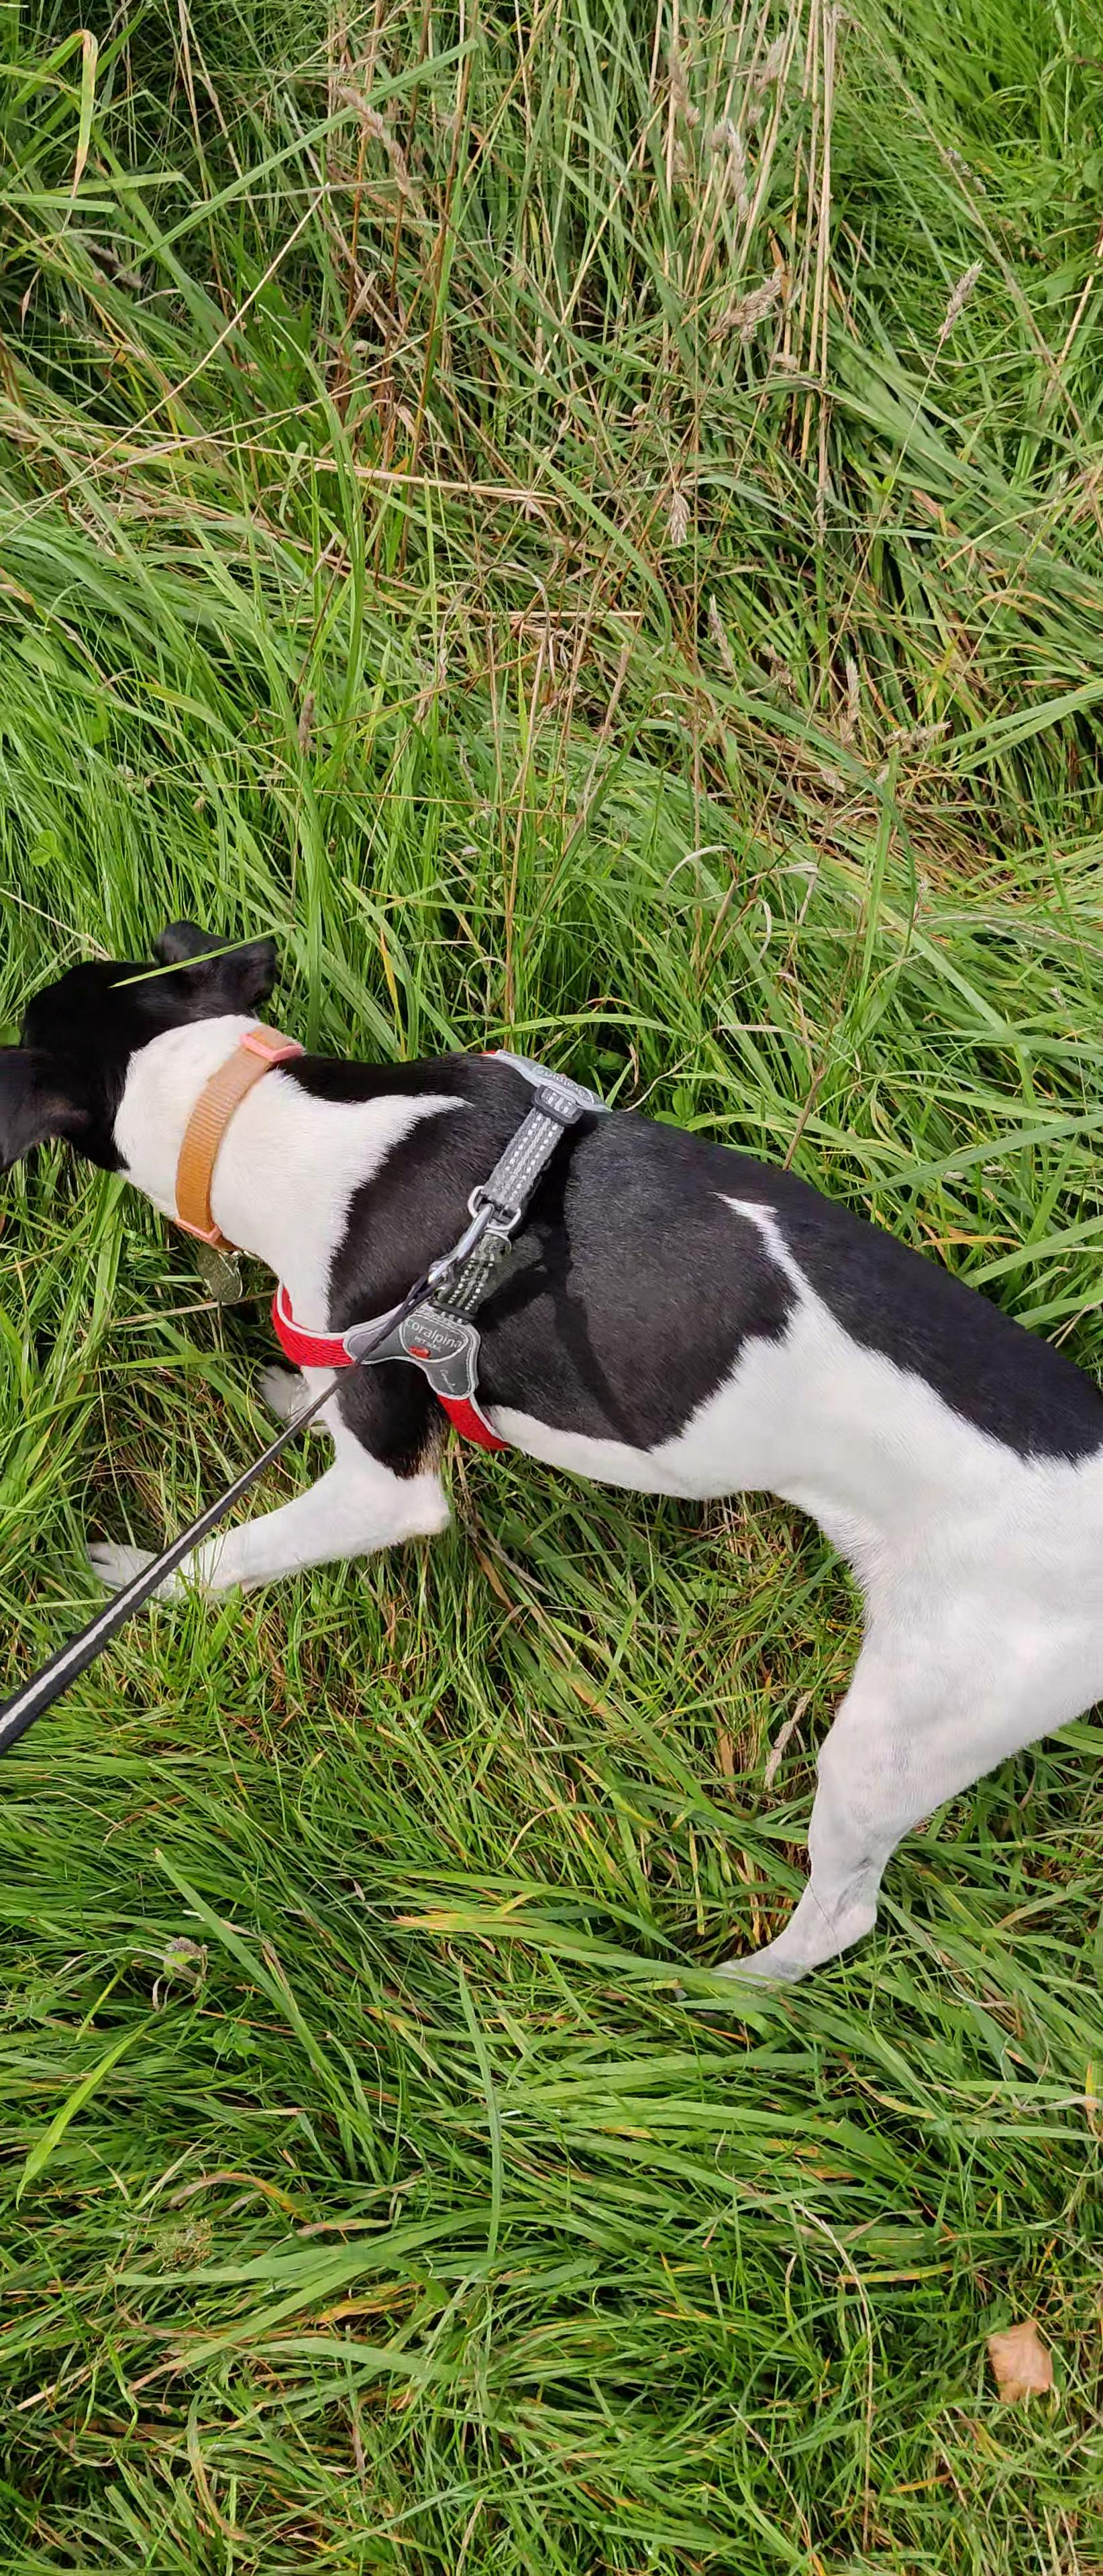Dog: (0, 869, 1103, 1988)
